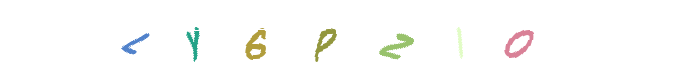6: (246, 0, 326, 80)
I: (339, 0, 419, 80)
L: (100, 0, 180, 80)
O: (478, 0, 558, 80)
P: (302, 0, 382, 80)
Y: (154, 0, 234, 80)
Z: (318, 0, 398, 80)
